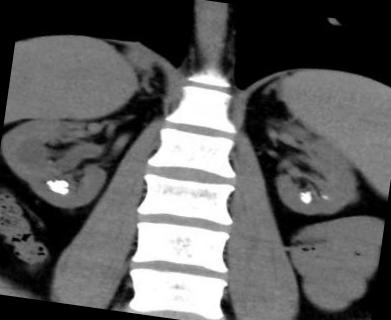Tas_Var: (42, 176, 70, 198), (296, 189, 313, 205), (320, 190, 330, 202)
